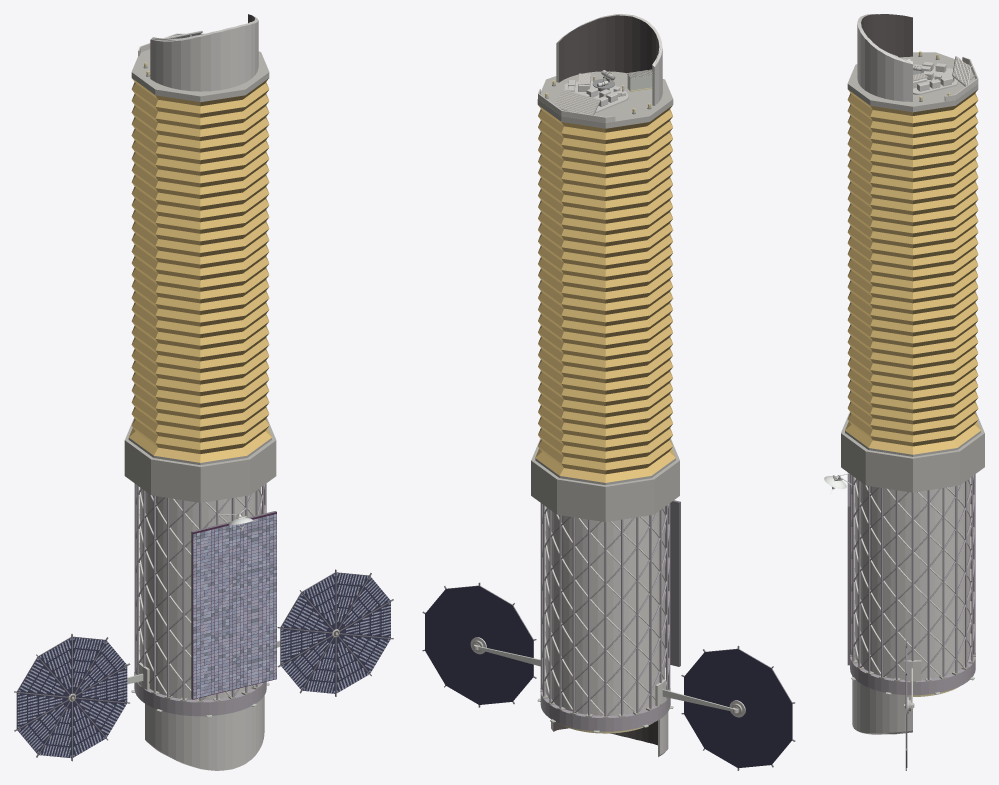
File: ixo-low.glb
3 renders of one model, left to right at view 1: azimuth 30°, elevation 25°; view 2: azimuth 150°, elevation 25°; view 3: azimuth 270°, elevation 25°, orthographic. The views are drawn at different scales.
Parts seen in each view (by area): view 1: Layer_0; view 2: Layer_0; view 3: Layer_0.
Boxes of the visible parts, <box> form: Layer_0: <box>14,14,393,770</box>; Layer_0: <box>422,14,795,770</box>; Layer_0: <box>824,14,984,770</box>.
Size of the model in its own units: 28.77 by 53.56 by 11.12.
Materials: 2 (2 with a texture image).
